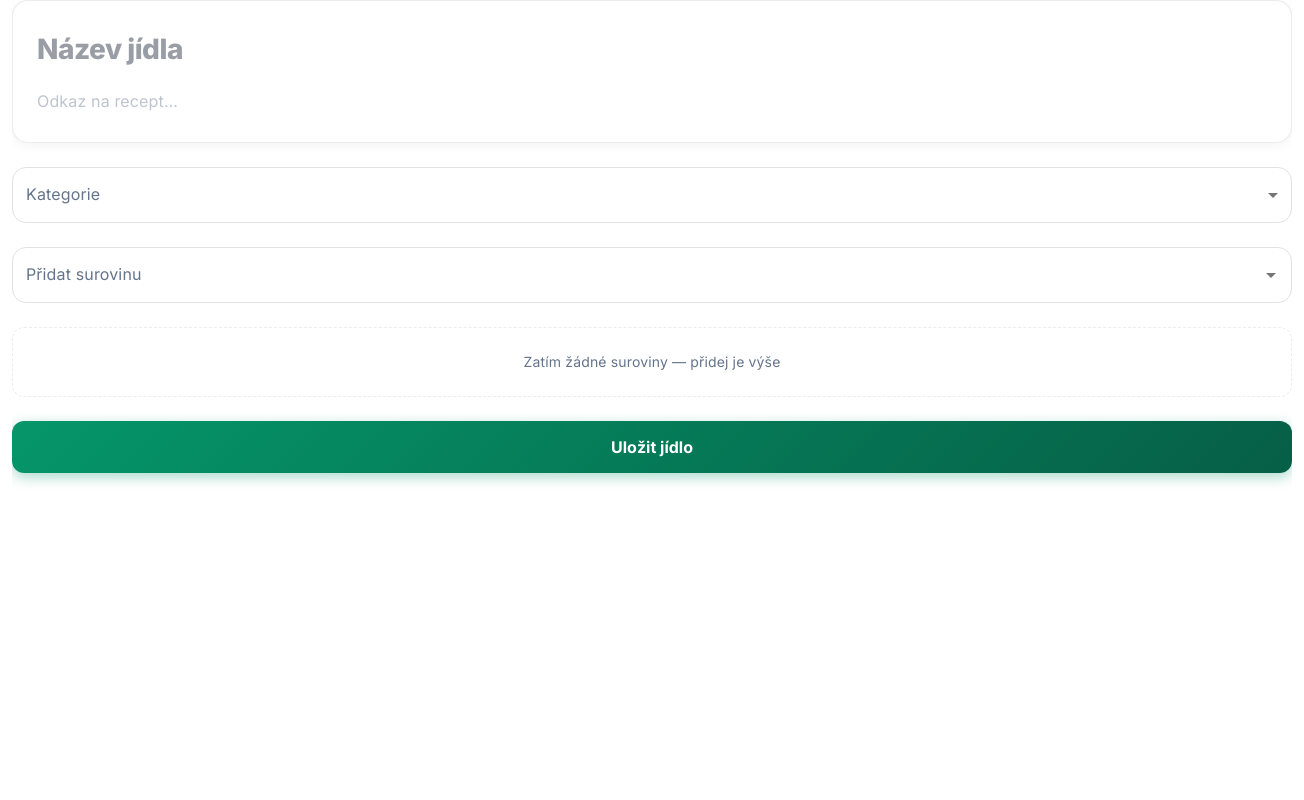
MealsForm › should show 'Vyplň název' and not submit when name is empty
Expected: the field with placeholder "Název jídla" is shown, 37,25 -> 1267,74
Click the button "Uložit jídlo".
click(652, 447)  # box 12,421 -> 1292,473
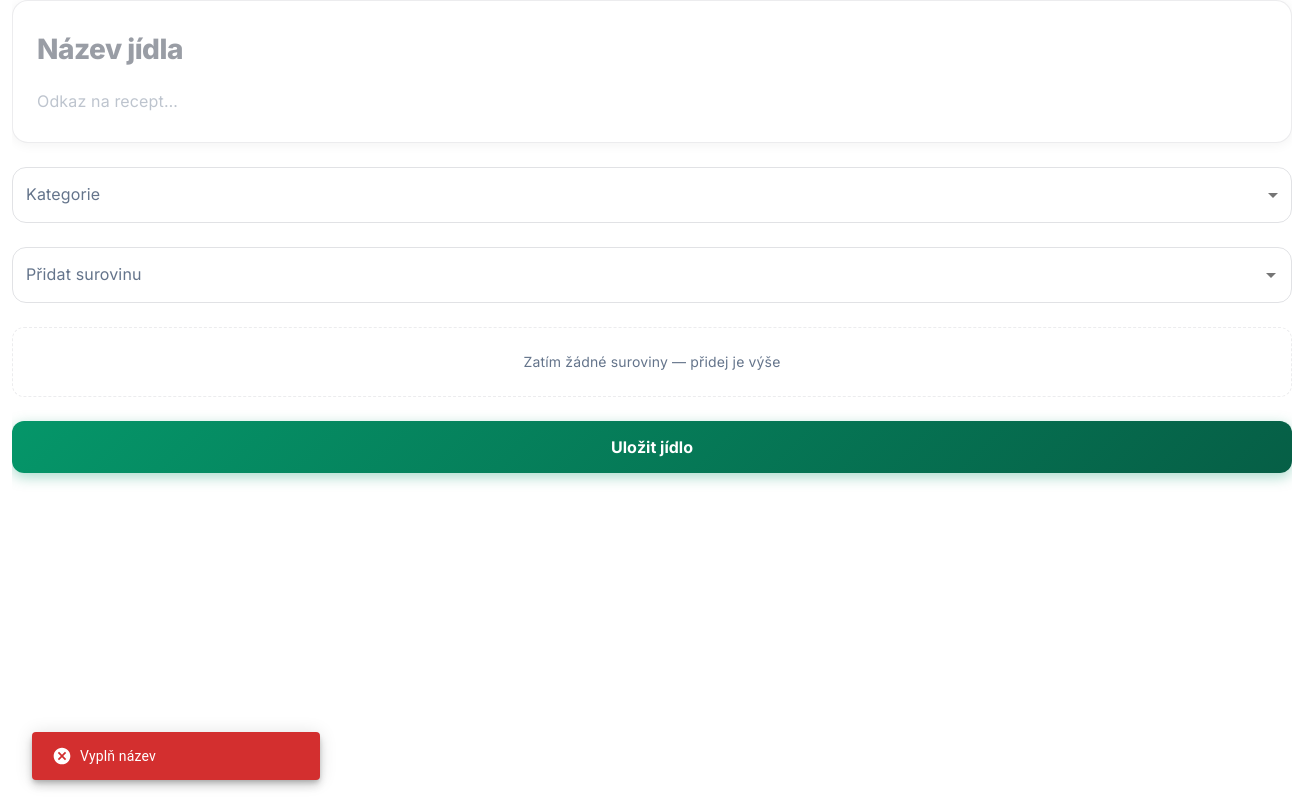
Expected: the text "Vyplň název" is shown, 52,746 -> 156,766
